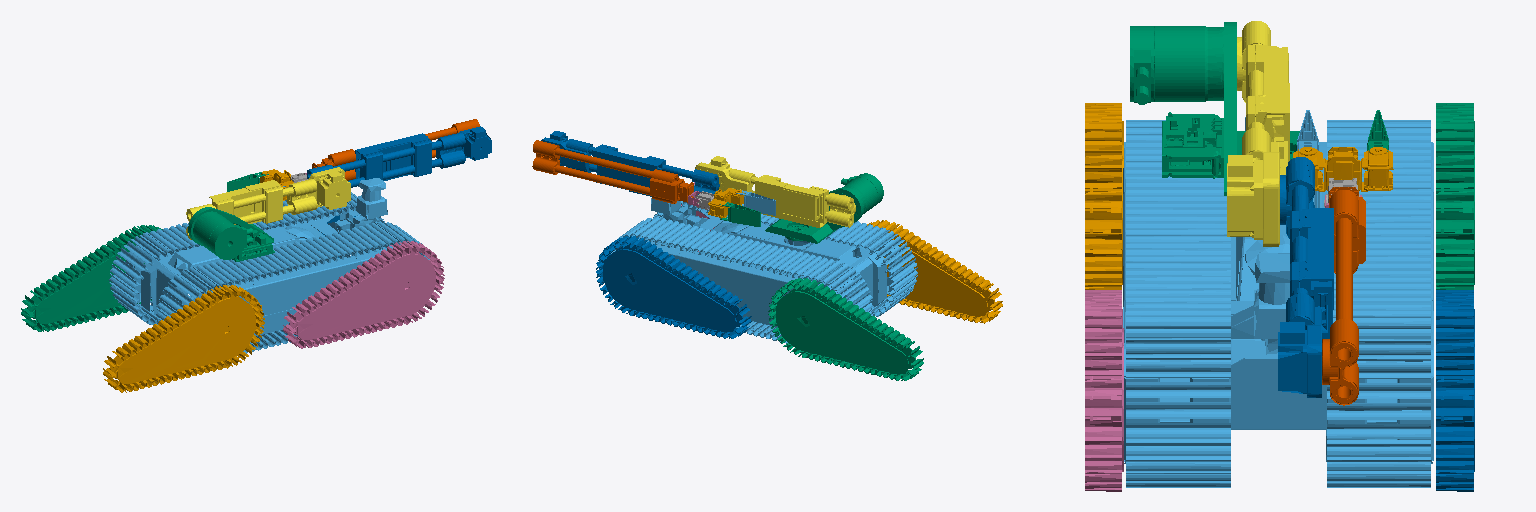
robot.urdf — ohm_robotarm:
<?xml version="1.0"?>
<robot name="ohm_robotarm">

<!--  Base Frame anpassen an TF Baum -->
<link name="base_link" >
    <visual>
      <origin rpy="0 0 0" xyz="0 0 0"/>
      <geometry>
        <box size="0.001 0.001 0.001"/>
      </geometry>
    </visual>
</link>


<link name="chassi">
	<visual>
       <origin xyz="0 0 0" rpy="0 0 0" />
		<geometry>
                        <mesh filename="package://ohm_robotarm/data/collada/10.dae" scale="1 1 1"/>
		</geometry>
	</visual>
	<collision>
		<geometry>
                        <mesh filename="package://ohm_robotarm/data/collada/10.dae" scale="1 1 1"/>
		</geometry>
		<origin xyz="0 0 0" rpy="0 0 0" />
	</collision>	
</link>

<joint name="base_footprint_joint" type="fixed">
  <origin rpy="0 0 0" xyz="0 0 0"/>
  <child link="chassi"/>
  <parent link="base_link"/>
</joint>

<!--  - - - - - - - - - -  -->
<!--  Start Manipulator    -->
<!--  - - - - - - - - - -  -->


<link name="schwenkplattform">
   <visual>
      <origin xyz="0 0 0" rpy="0 0 0" />
      <geometry>
         <mesh filename="package://ohm_robotarm/data/collada/20.dae" scale="1 1 1"/>
      </geometry>
   </visual>
   <collision>
      <origin xyz="0 0 0" rpy="0 0 3.14159" />
      <geometry>
          <mesh filename="package://ohm_robotarm/data/collada/20.dae" scale="1 1 1"/>
      </geometry>    
   </collision>   
   <limit effort="30.0" velocity="0.5"/>
</link>

<joint name="joint_1" type="continuous">
   <parent link="chassi"/>
   <child link="schwenkplattform"/>
   <origin xyz="0 0 0.231" rpy="0 0 0"/>
   <axis xyz="0 0 1" rpy="0 0 0"/>
   <limit effort="65.0" velocity="0.5"/>
</joint>

<link name="link_1">
   <visual>
      <geometry>
         <mesh filename="package://ohm_robotarm/data/collada/30.dae" scale="1 1 1"/>
      </geometry>
   </visual>
   <collision>
      <geometry>
          <mesh filename="package://ohm_robotarm/data/collada/30.dae" scale="1 1 1"/>
      </geometry>
                <!--  <origin xyz="-0.0259 0 0.1989" rpy="0 0 0"/> -->
   </collision>
</link>

<joint name="joint_2" type="revolute">
   <parent link="schwenkplattform"/>
   <child link="link_1"/>
   <origin xyz="-0.115 -0.05 0.087942" rpy="0 0 0"/>
   <axis xyz="0 1 0" rpy="0 0 0"/>x
   <limit effort="65.0" velocity="0.5" lower="-2.42" upper="0"/>
</joint>


<link name="link_2">
   <visual>
      <geometry>
         <mesh filename="package://ohm_robotarm/data/collada/40.dae" scale="1 1 1"/>
      </geometry>
   </visual>
   <collision>
      <geometry>
         <mesh filename="package://ohm_robotarm/data/collada/40.dae" scale="1 1 1"/>
      </geometry>
                <origin xyz="-0.0312 0.00 0.23" rpy="0 0 0"/>
   </collision>
</link>

<joint name="joint_3" type="revolute">
   <parent link="link_1"/>
   <child link="link_2"/>
      <origin xyz="0.385 0.0498 0" rpy="0 0 0"/>
   <axis xyz="0 1 0" rpy="0 0 0"/>
   <limit effort="35.0" velocity="0.5" lower="0" upper="4.71"/>
</joint>

<link name="link_3">
   <visual>
      <geometry>
         <mesh filename="package://ohm_robotarm/data/collada/50.dae" scale="1 1 1"/>
      </geometry>
   </visual>
   <collision>
        <!-- <origin xyz="-0.0298 0.0 0.213" rpy="0 0 0" /> -->
      <geometry>
         <mesh filename="package://ohm_robotarm/data/collada/50.dae" scale="1 1 1"/>
      </geometry>
   </collision>
</link>
<joint name="joint_4" type="revolute">
   <parent link="link_2"/>
   <child link="link_3"/>
   <origin xyz="0.4576 0.0773 0" rpy="0 3.141 0"/>
   <axis xyz="0 -1 0" rpy="0 0 0"/>
   <limit effort="15.0" velocity="0.5" lower="-4.71" upper="0.0"/>
</joint>

<link name="TCP_1">
   <visual>
      <geometry>
         <mesh filename="package://ohm_robotarm/data/collada/60.dae" scale="1 1 1"/>
      </geometry>
   </visual>
   <collision>
      <geometry>
          <mesh filename="package://ohm_robotarm/data/collada/60.dae" scale="1 1 1"/>
      </geometry>
                <origin xyz="0 0 0" rpy="0 0 0"/>
   </collision>
</link>
<joint name="joint_5" type="revolute">
   <parent link="link_3"/>
   <child link="TCP_1"/>
   <origin xyz="0.447 0 0.0133" rpy="0 0 0"/>
   <axis xyz="1 0 0" rpy="0 0 0"/>
   <limit effort="15.0" velocity="0.5" lower="-3.14" upper="3.14"/>
</joint>

<link name="TCP_2">
   <visual>
      <geometry>
         <mesh filename="package://ohm_robotarm/data/collada/70.dae" scale="1 1 1"/>
      </geometry>
   </visual>
   <collision>
      <geometry>
          <mesh filename="package://ohm_robotarm/data/collada/70.dae" scale="1 1 1"/>
      </geometry>
                <origin xyz="0 0 0" rpy="0 0 0"/>
   </collision>
</link>
<joint name="joint_6" type="revolute">
   <parent link="TCP_1"/>
   <child link="TCP_2"/>
   <origin xyz="0.03 0 0.0" rpy="0 0 0"/>
   <axis xyz="0 1 0" rpy="0 0 0"/>
   <limit effort="15.0" velocity="0.5" lower="-1.57" upper="1.57"/>
</joint>

<link name="TCP_3">
   <visual>
      <geometry>
         <mesh filename="package://ohm_robotarm/data/collada/80.dae" scale="1 1 1"/>
      </geometry>
   </visual>
   <collision>
      <geometry>
        <mesh filename="package://ohm_robotarm/data/collada/80.dae" scale="1 1 1"/>
      </geometry>
                <origin xyz="0 0 0" rpy="0 0 0"/>
   </collision>
</link>
<joint name="joint_7" type="revolute">
   <parent link="TCP_2"/>
   <child link="TCP_3"/>
   <origin xyz="0.0395 0 0" rpy="0 0 0"/>
   <axis xyz="1 0 0" rpy="0 0 0"/>
   <limit effort="15.0" velocity="0.5" lower="-3.14" upper="3.14"/>
</joint>

<link name="GR_1">
   <visual>
      <geometry>
         <mesh filename="package://ohm_robotarm/data/collada/90.dae" scale="1 1 1"/>
      </geometry>
   </visual>
   <collision>
      <geometry>
         <mesh filename="package://ohm_robotarm/data/collada/90.dae" scale="1 1 1"/>
      </geometry>
                <origin xyz="0 0 0" rpy="0 0 0"/>
   </collision>
</link>
<joint name="joint_gripper_1" type="revolute">
   <parent link="TCP_3"/>
   <child link="GR_1"/>
   <origin xyz=" 0.0486 -0.042 -0.0072" rpy="0 0 0"/>
   <axis xyz="0 0 1" rpy="0 0 0"/>
   <limit effort="15.0" velocity="0.5" lower="-1.57" upper="0.35"/>
</joint>

<link name="GR_2">
   <visual>
      <geometry>
         <mesh filename="package://ohm_robotarm/data/collada/90.dae" scale="1 1 1"/>
      </geometry>
   </visual>
   <collision>
      <geometry>
         <mesh filename="package://ohm_robotarm/data/collada/90.dae" scale="1 1 1"/>
      </geometry>
                <origin xyz="0 0 0" rpy="0 0 0"/>
   </collision>
</link>
<joint name="joint_gripper_2" type="revolute">
   <parent link="TCP_3"/>
   <child link="GR_2"/>
   <origin xyz="0.0486 0.042 -0.0072" rpy="0 0 0"/>
   <axis xyz="0 0 1" rpy="0 0 0"/>
   <limit effort="15.0" velocity="0.5" lower="-0.35" upper="1.57"/>
</joint>


<!--  - - - - - - - - - -  -->
<!--  End Manipulator      -->
<!--  - - - - - - - - - -  -->




<!--  - - - - - - - - - -  -->
<!--  Start Flipper TFs 4x -->
<!--  - - - - - - - - - -  -->

<link name="static_flipper_front_left">
<geometry>
<box size="0.001 0.001 0.001"/>
</geometry>
 <origin xyz="0 0 0" rpy="0 0 0" />
</link>

<joint name="flipper1" type="fixed">
   <parent link="base_link"/>
   <child link="static_flipper_front_left"/>
   <origin xyz="0.38 0.21 0.105" />
</joint>

<link name="flipper_front_left">
   <visual>
      <geometry>
         <mesh filename="package://ohm_robotarm/data/collada/10_10.dae" scale="1 1 1"/>
      </geometry>
   </visual>
</link>

<joint name="flipper_front_left_joint" type="continuous">
   <parent link="static_flipper_front_left"/>
   <child link="flipper_front_left"/>
   <axis xyz="0 1 0" rpy="0 0 0"/>
   <origin xyz="0 0 0" rpy="0 0 0" />
   <limit effort="65.0" velocity="0.5"/>
</joint>



<link name="static_flipper_front_right">
 <origin xyz="0 0 0" rpy="0 0 0" />
</link>

<joint name="flipper2" type="fixed">
   <parent link="base_link"/>
   <child link="static_flipper_front_right"/>
   <origin xyz="0.38 -0.21 0.105" />
</joint>

<link name="flipper_front_right">
   <visual>
   <origin xyz="0 0 0" rpy="0 0 0" />
      <geometry>
         <mesh filename="package://ohm_robotarm/data/collada/10_10.dae" scale="1 1 1"/>
      </geometry>
   </visual>
</link>

<joint name="flipper_front_right_joint" type="continuous">
   <parent link="static_flipper_front_right"/>
   <child link="flipper_front_right"/>
   <axis xyz="0 1 0" rpy="0 0 0"/>
   <origin xyz="0 0 0" rpy="0 0 0" />
   <limit effort="65.0" velocity="0.5"/>
</joint>


<link name="static_flipper_rear_right">
 <origin xyz="0 0 0" rpy="0 0 0" />
</link>

<joint name="flipper3" type="fixed">
   <parent link="base_link"/>
   <child link="static_flipper_rear_right"/>
   <origin xyz="-0.15 -0.21 0.105" />
</joint>

<link name="flipper_rear_right">
   <visual>
   <origin xyz="0 0 0" rpy="0 0 0" />
      <geometry>
         <mesh filename="package://ohm_robotarm/data/collada/10_10.dae" scale="1 1 1"/>
      </geometry>
   </visual>
</link>

<joint name="flipper_rear_right_joint" type="continuous">
   <parent link="static_flipper_rear_right"/>
   <child link="flipper_rear_right"/>
   <axis xyz="0 1 0" rpy="0 0 0"/>
   <origin xyz="0 0 0" rpy="0 0 0" />
   <limit effort="65.0" velocity="0.5"/>
</joint>


<link name="static_flipper_rear_left">
 <origin xyz="0 0 0" rpy="0 0 0" />
</link>

<joint name="flipper4" type="fixed">
   <parent link="base_link"/>
   <child link="static_flipper_rear_left"/>
   <origin xyz="-0.15 0.21 0.105" />
</joint>

<link name="flipper_rear_left">
   <visual>
   <origin xyz="0 0 0" rpy="0 0 0" />
      <geometry>
         <mesh filename="package://ohm_robotarm/data/collada/10_10.dae" scale="1 1 1"/>
      </geometry>
   </visual>
</link>

<joint name="flipper_rear_left_joint" type="continuous">
   <parent link="static_flipper_rear_left"/>
   <child link="flipper_rear_left"/>
   <axis xyz="0 1 0" rpy="0 0 0"/>
   <origin xyz="0 0 0" rpy="0 0 0" />
   <limit effort="65.0" velocity="0.5"/>
</joint>

<!--  - - - - - - - - - -  -->
<!--  End Flipper TFs 4x -->
<!--  - - - - - - - - - -  -->

</robot>

--- Facts derived from the render (not from the file) ---
3 views of the same robot in one strip: view 1: azimuth 30°, elevation 25°; view 2: azimuth 150°, elevation 25°; view 3: azimuth 270°, elevation 25° (orthographic).
Model ohm_robotarm with 19 links and 18 joints (8 revolute, 5 continuous, 5 fixed), rooted at base_link, posed all joints at 0.
Visible links, largest first — view 1: chassi, flipper_front_right, flipper_rear_right, flipper_rear_left, link_2, link_1, schwenkplattform, link_3; view 2: chassi, flipper_rear_left, flipper_front_left, flipper_rear_right, link_1, link_3, link_2, schwenkplattform, TCP_3, GR_2, GR_1; view 3: chassi, schwenkplattform, link_1, link_2, flipper_front_left, flipper_front_right, flipper_rear_left, flipper_rear_right, link_3, TCP_3, GR_1, GR_2.
Link boxes in pixels (<box>): chassi: <box>109,178,429,353</box>; flipper_front_right: <box>283,241,444,348</box>; flipper_rear_right: <box>103,285,264,392</box>; flipper_rear_left: <box>21,225,162,331</box>; link_2: <box>307,126,491,187</box>; link_1: <box>186,167,350,239</box>; schwenkplattform: <box>188,207,274,261</box>; link_3: <box>312,119,479,180</box>; chassi: <box>611,185,917,343</box>; flipper_rear_left: <box>768,278,923,380</box>; flipper_front_left: <box>596,236,751,338</box>; flipper_rear_right: <box>867,220,1002,323</box>; link_1: <box>695,156,855,227</box>; link_3: <box>532,140,693,203</box>; link_2: <box>541,131,719,196</box>; schwenkplattform: <box>765,173,883,243</box>; TCP_3: <box>708,188,743,218</box>; GR_2: <box>720,202,760,226</box>; GR_1: <box>736,190,775,215</box>; chassi: <box>1123,117,1433,487</box>; schwenkplattform: <box>1130,22,1299,195</box>; link_1: <box>1227,21,1289,246</box>; link_2: <box>1278,157,1333,397</box>; flipper_front_left: <box>1436,290,1474,491</box>; flipper_front_right: <box>1085,290,1123,491</box>; flipper_rear_left: <box>1436,103,1474,289</box>; flipper_rear_right: <box>1085,103,1123,289</box>; link_3: <box>1322,187,1365,405</box>; TCP_3: <box>1293,147,1393,191</box>; GR_1: <box>1297,110,1318,150</box>; GR_2: <box>1367,110,1388,170</box>.
Bounding box of the posed robot: 1.26 × 0.4669 × 0.3747 m (x, y, z).
Meshes: 10 distinct files referenced, 14 mesh visuals loaded (10 Collada DAE).
